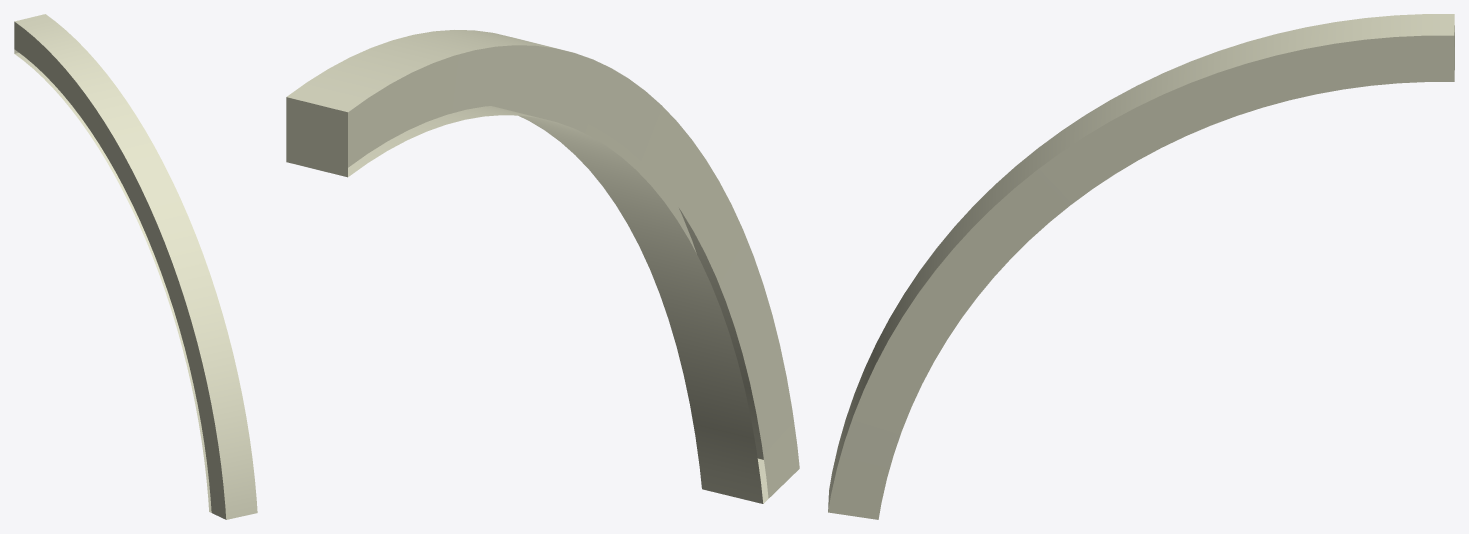
The model's file is quarter ring.dae.
3 views of the same model, side by side, from view 1: azimuth 30°, elevation 25°; view 2: azimuth 150°, elevation 25°; view 3: azimuth 270°, elevation 25° (orthographic). The views are drawn at different scales.
Visible parts, largest first — view 1: group_0; view 2: group_0; view 3: group_0.
Part boxes in pixels (bbox=[...]): group_0: bbox=[14, 14, 257, 519]; group_0: bbox=[286, 30, 799, 503]; group_0: bbox=[828, 14, 1454, 519].
Bounding box in the file's own units: 113 × 1130 × 972.
